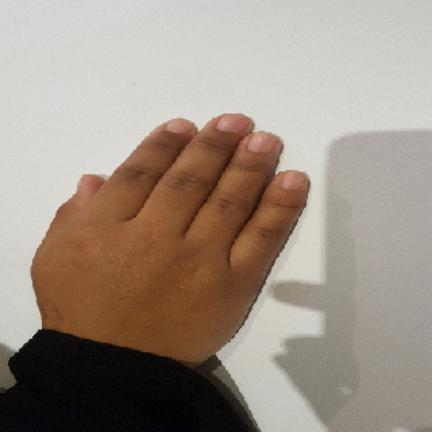Nail: (247, 132, 277, 153), (217, 114, 251, 132), (280, 171, 306, 189), (167, 118, 192, 133)
